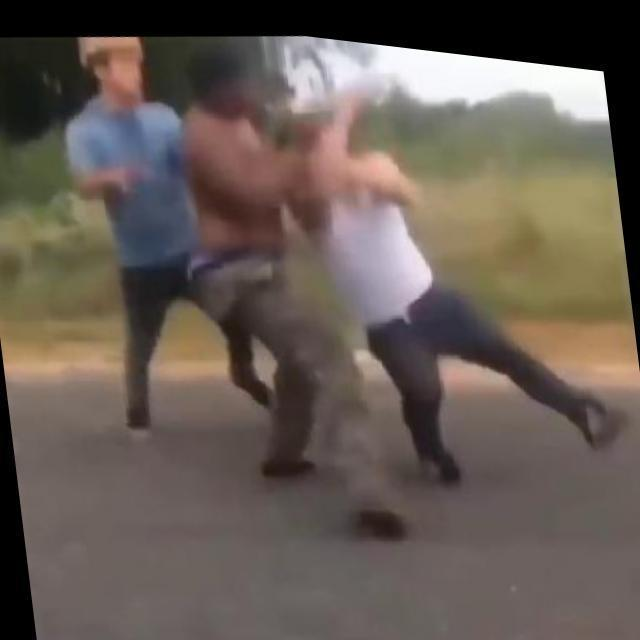fight: (162, 15, 639, 563)
